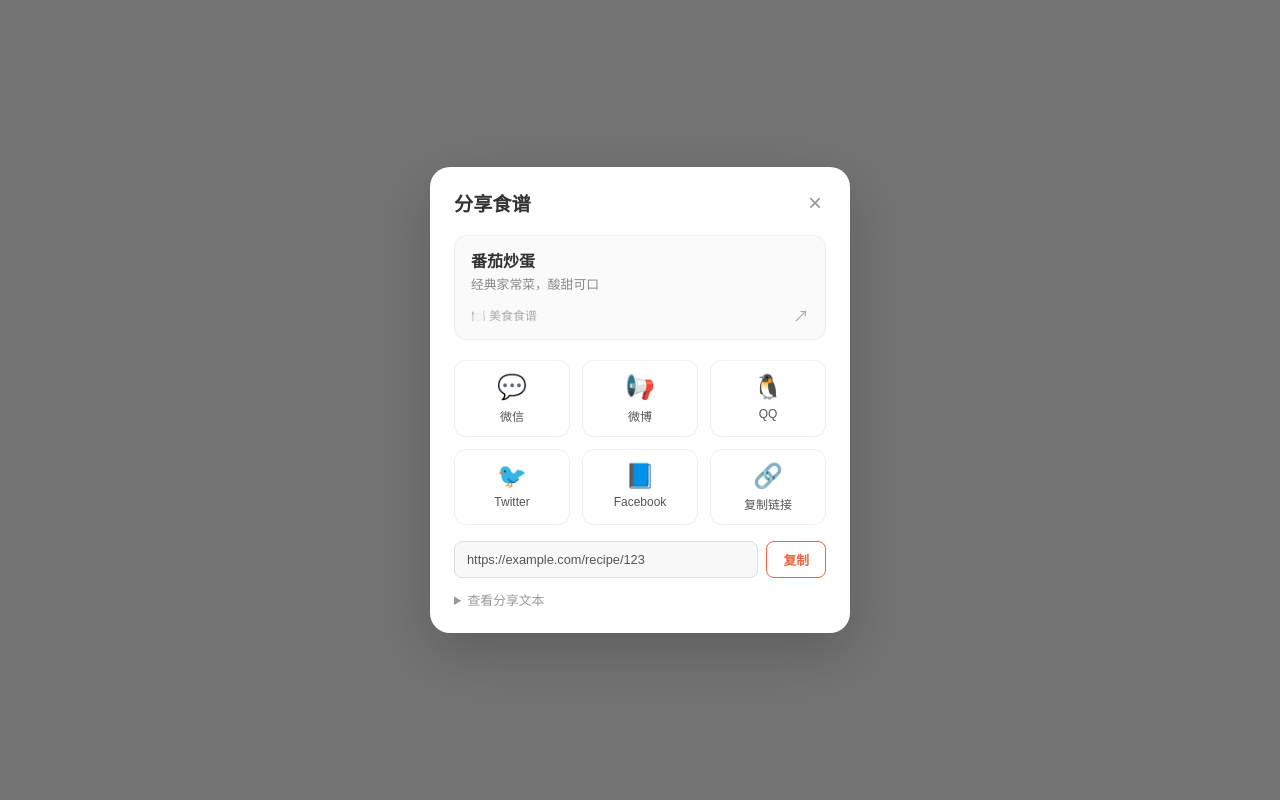
Test: ShareModal › 链接复制 › 复制按钮点击后显示已复制
The width and height of the screenshot is (1280, 800).
Click the button "复制".
click(796, 560)  # box [766,541,826,578]
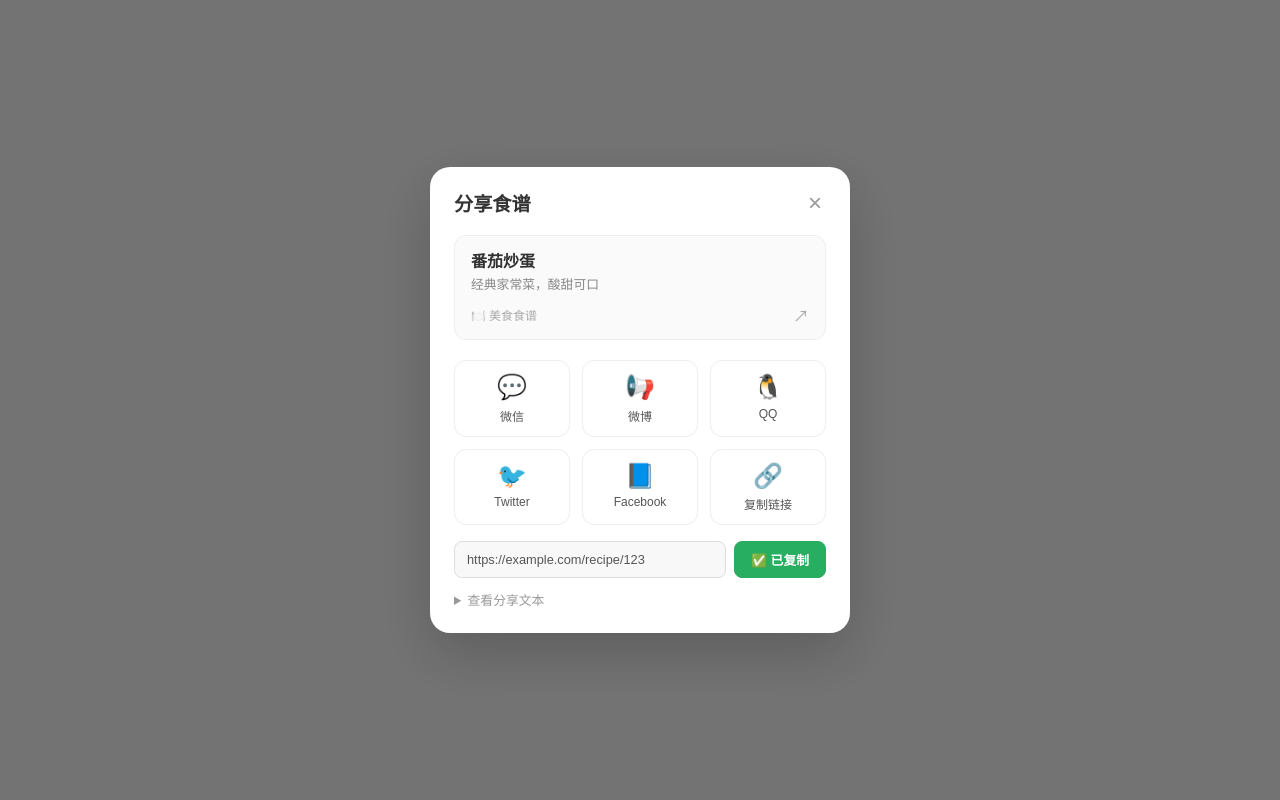
Check: the button "✅ 已复制" is shown, box [734,541,826,578]
